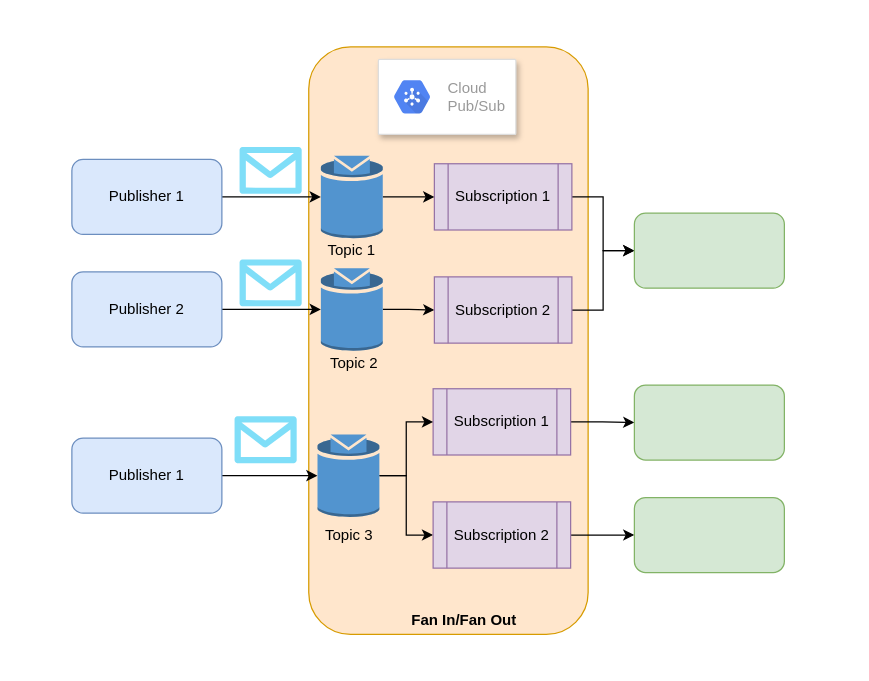
This 869x681 diagram has some shape labels left out. The shapes that lost their labels are listed below. From the top down, each one's centre as x and y in pixels, then its label:
point (708, 250): Subscriber A
point (708, 422): Subscriber B
point (708, 534): Subscriber C
